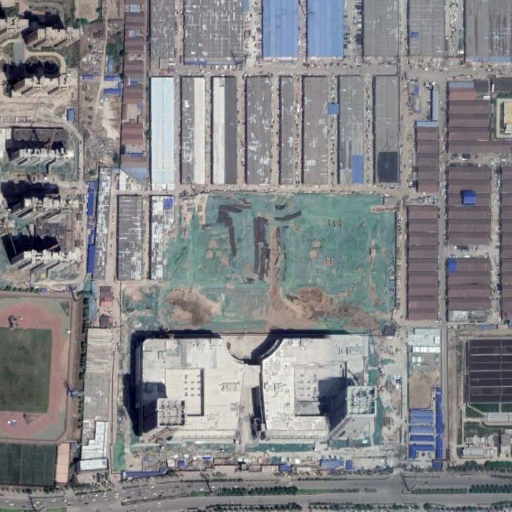cw: (117, 187, 398, 336)
